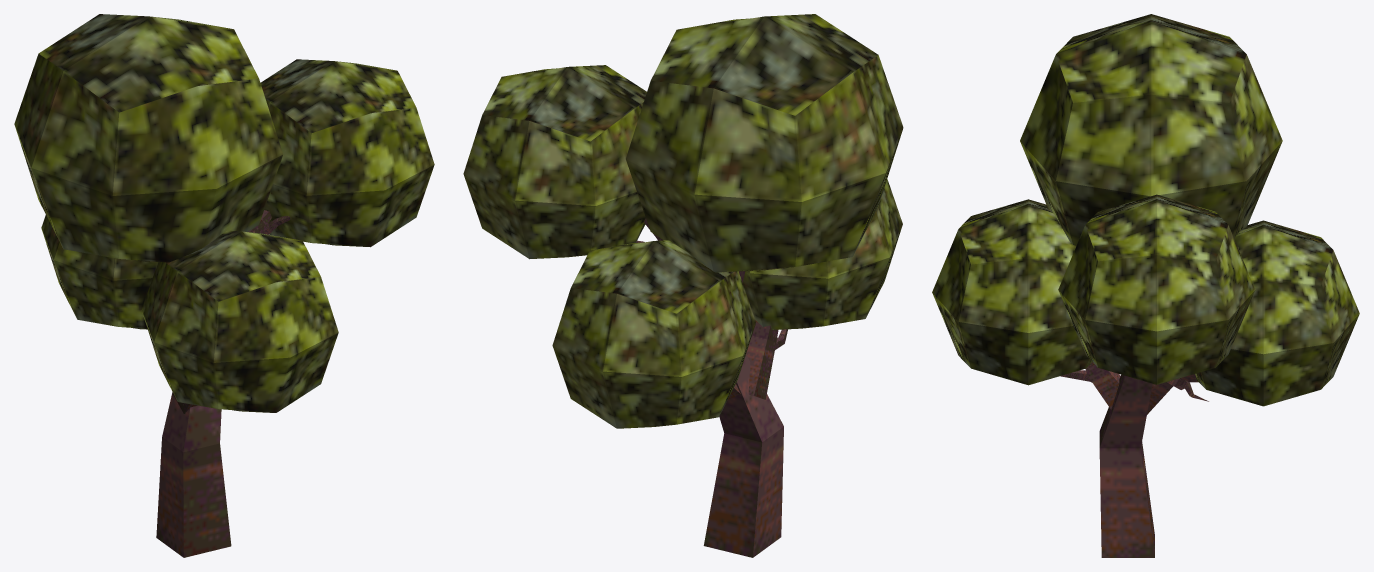
File: Tree4.fbx
3 renders of one model, left to right at view 1: azimuth 30°, elevation 25°; view 2: azimuth 150°, elevation 25°; view 3: azimuth 270°, elevation 25°, orthographic. The views are drawn at different scales.
Parts seen in each view (by area): view 1: Cube.070; view 2: Cube.070; view 3: Cube.070.
Boxes of the visible parts, x1,y1,x2,y2 form: Cube.070: [14, 14, 434, 557]; Cube.070: [463, 14, 903, 557]; Cube.070: [932, 14, 1359, 557].
Bounding box in the file's own units: 1652 × 2108 × 1605.
